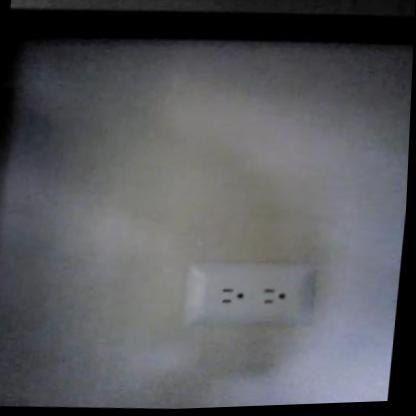OUTLET: (178, 257, 321, 335)
